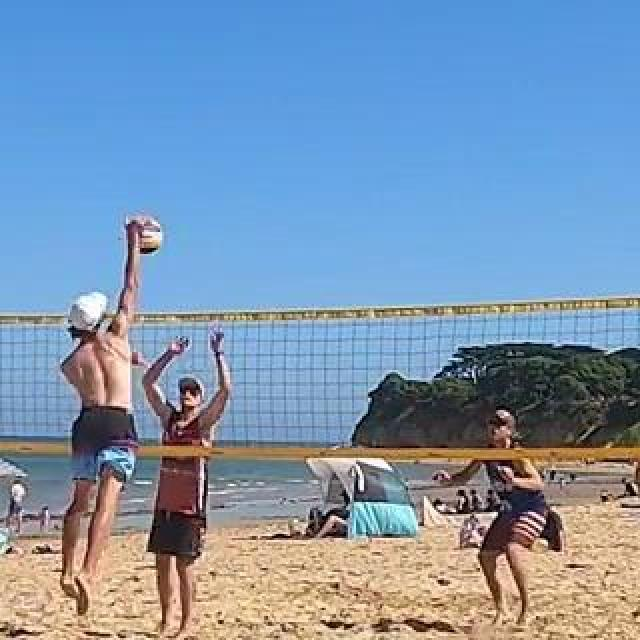volleyball: (127, 217, 165, 255)
